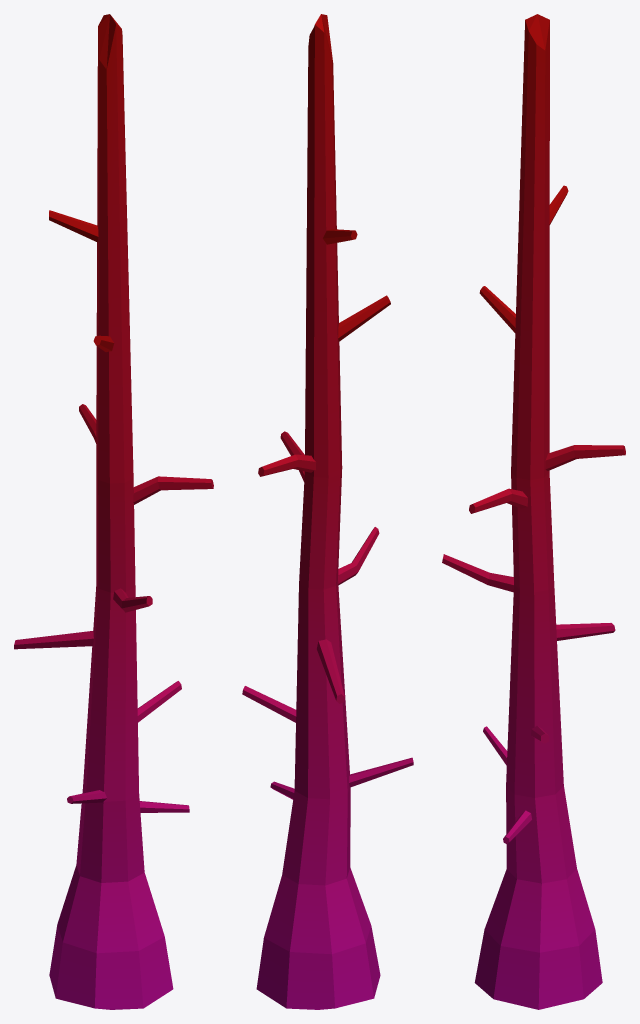
The model's file is synty-tree-pine-dead-01.gltf.
The picture shows the model from 3 angles, left to right: view 1: azimuth 30°, elevation 25°; view 2: azimuth 150°, elevation 25°; view 3: azimuth 270°, elevation 25°; orthographic projection.
Parts seen in each view (by area): view 1: SM_Tree_Pine_Dead_01; view 2: SM_Tree_Pine_Dead_01; view 3: SM_Tree_Pine_Dead_01.
Part boxes in pixels (box(x1,y1,x2,y2)): SM_Tree_Pine_Dead_01: box(14, 14, 213, 1009); SM_Tree_Pine_Dead_01: box(242, 14, 413, 1009); SM_Tree_Pine_Dead_01: box(442, 14, 625, 1009).
Bounding box in the file's own units: 1 × 6.73 × 1.13.
Materials: 1 (1 with a texture image).
